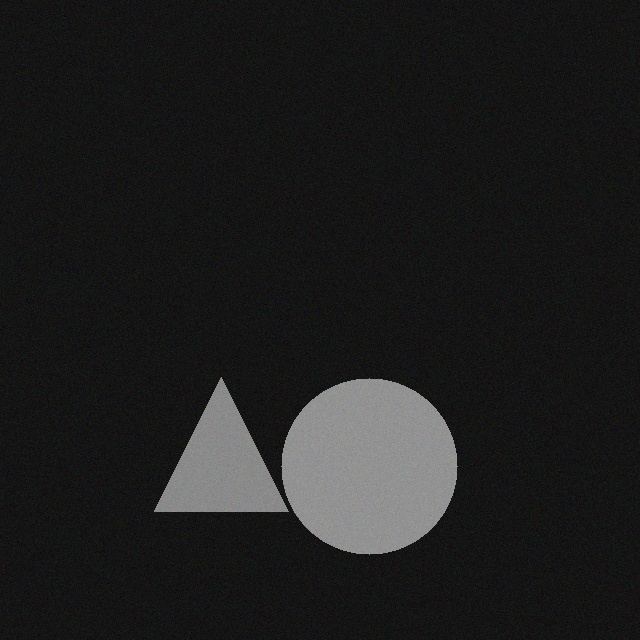circle: (283, 364, 459, 540)
triangle: (156, 363, 290, 497)
